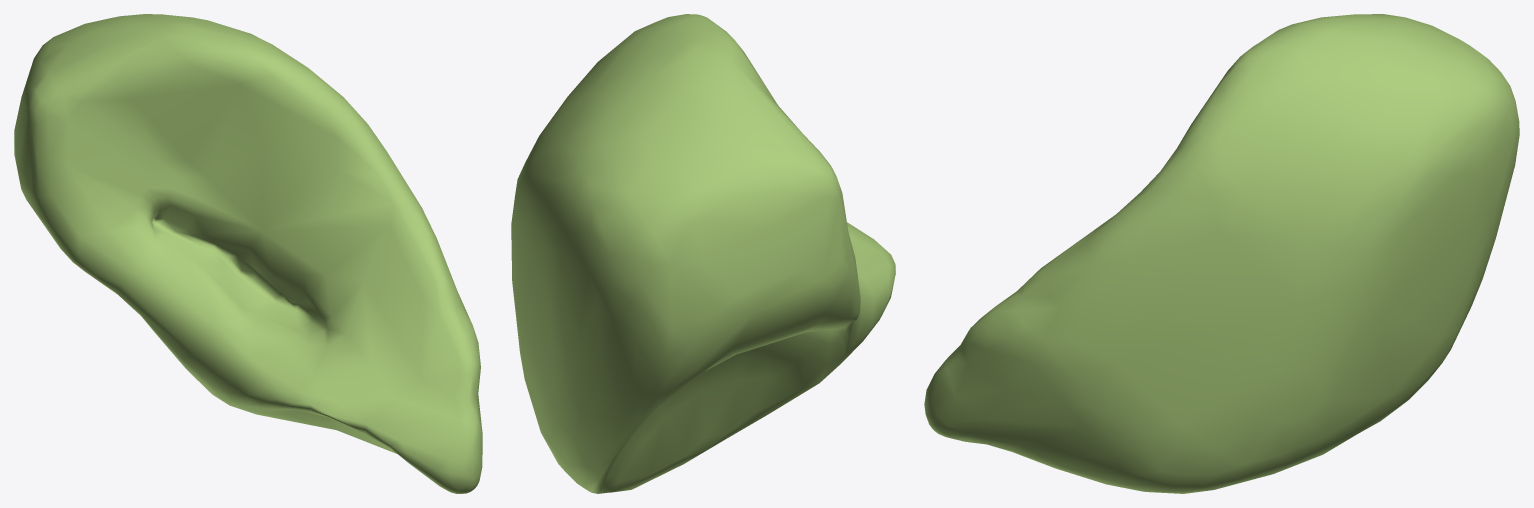
File: spleen.glb
3 views of the same model, side by side, from view 1: azimuth 30°, elevation 25°; view 2: azimuth 150°, elevation 25°; view 3: azimuth 270°, elevation 25° (orthographic). The views are drawn at different scales.
Parts seen in each view (by area): view 1: Spleen; view 2: Spleen; view 3: Spleen.
Boxes of the visible parts, x1,y1,x2,y2 form: Spleen: [14, 14, 482, 493]; Spleen: [511, 14, 895, 493]; Spleen: [924, 14, 1519, 493].
Size of the model in its own units: 0.0582 by 0.0702 by 0.0951.
